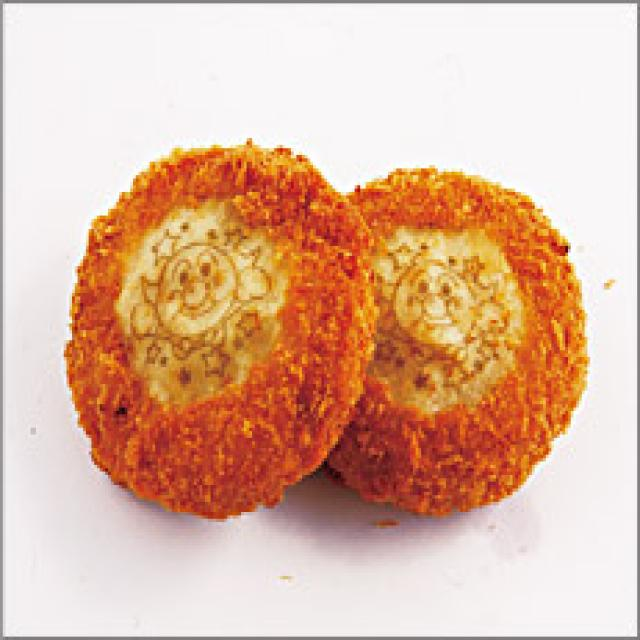炸货点心: (53, 125, 590, 532)
